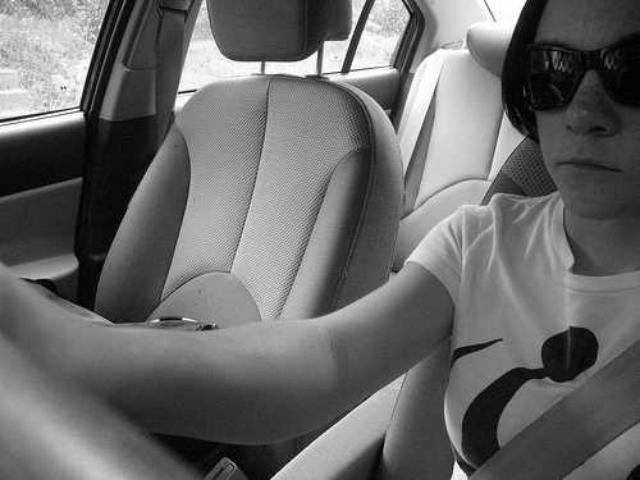SafeDriving: (528, 38, 584, 76)
Seatbelt: (464, 334, 640, 480)
